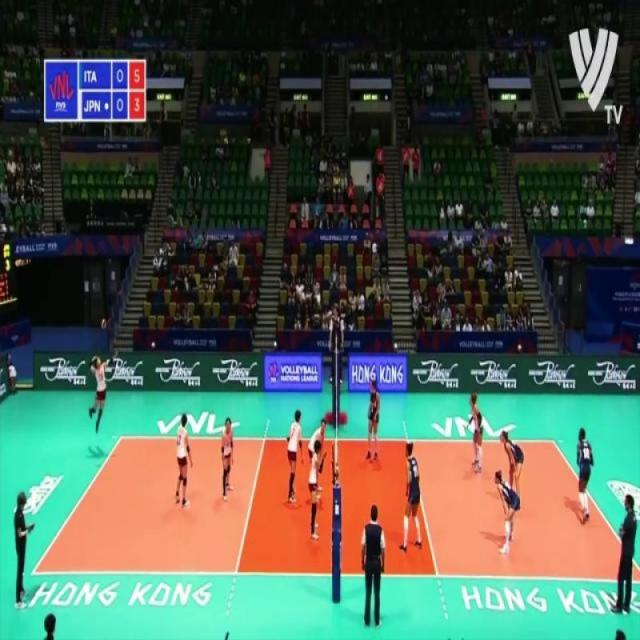volleyball: (100, 318, 107, 329)
